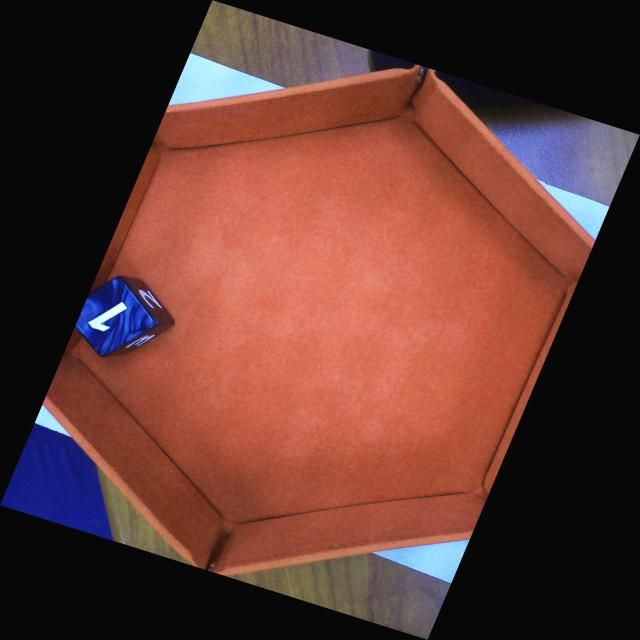dice: (58, 274, 160, 359)
